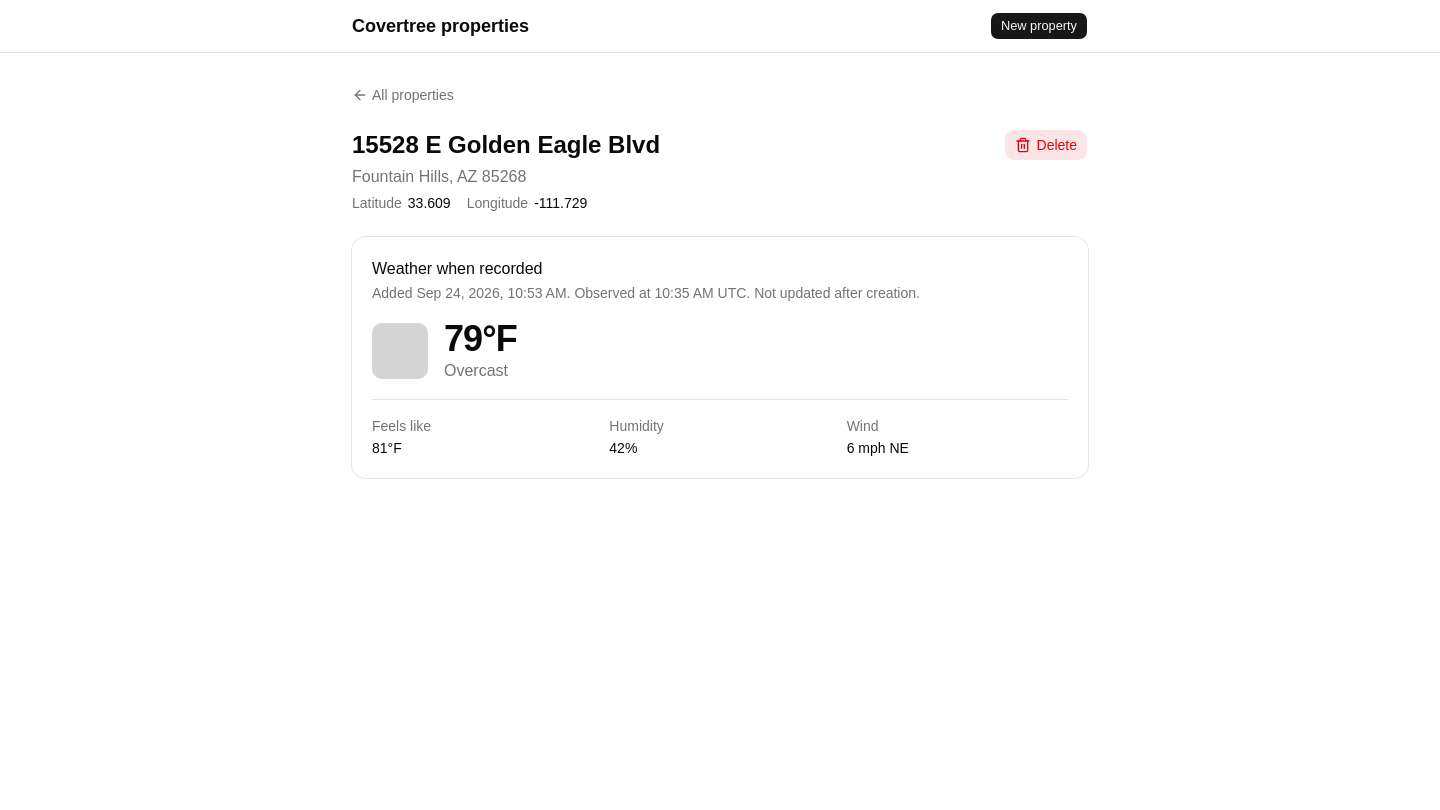
delete property › S6.6 asks for confirmation and deletes nothing when cancelled
The image size is (1440, 810).
Click the button "Delete". click: x=1046, y=145
box: x1=1004 y1=129 x2=1088 y2=161
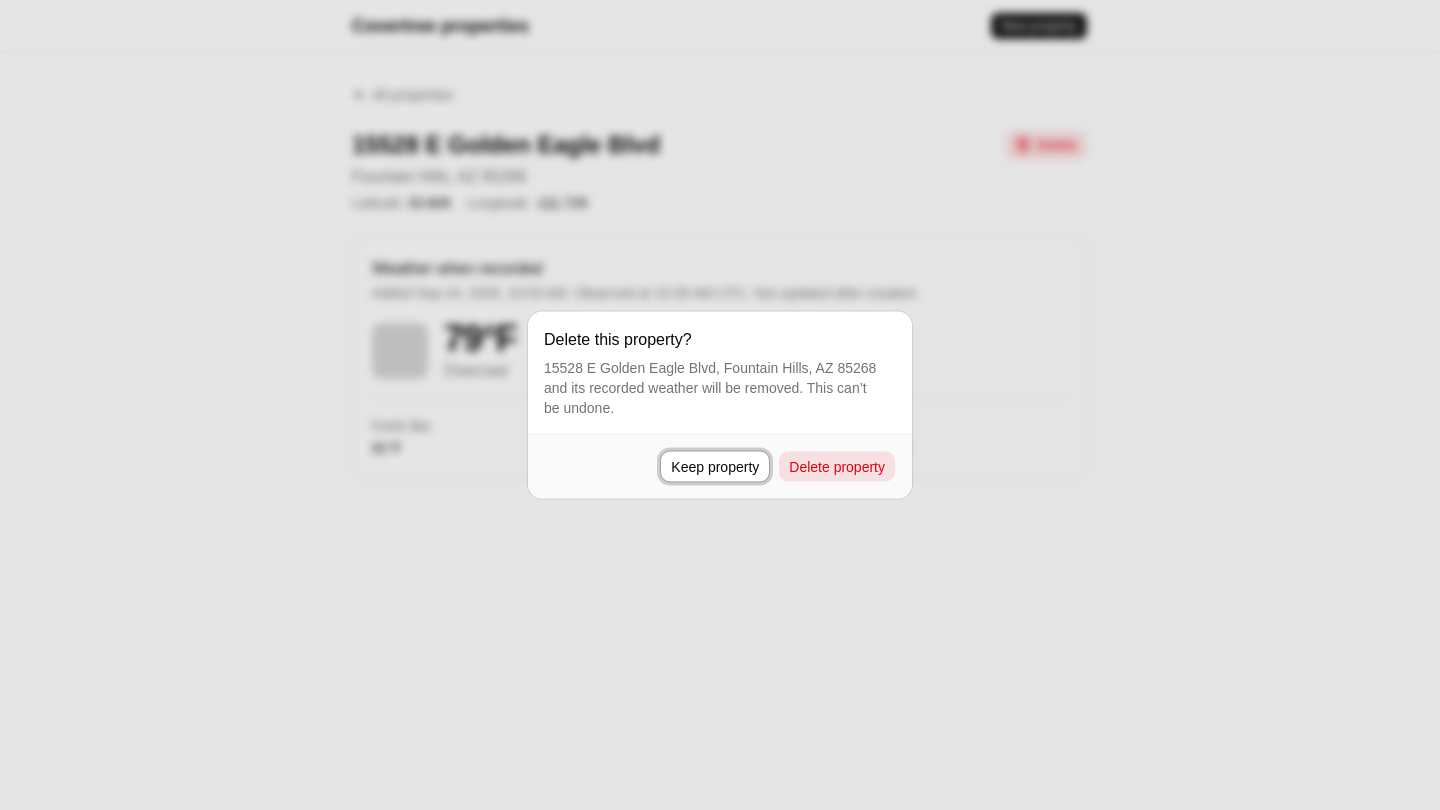
Expected: the heading "Delete this property?" is shown, x1=544 y1=328 x2=692 y2=352
Expected: the text "15528 E Golden Eagle Blvd, Fountain Hills, AZ 85268" is shown, x1=544 y1=360 x2=876 y2=376
Click the button "Keep property". click: x=715, y=466
box: x1=660 y1=450 x2=770 y2=482
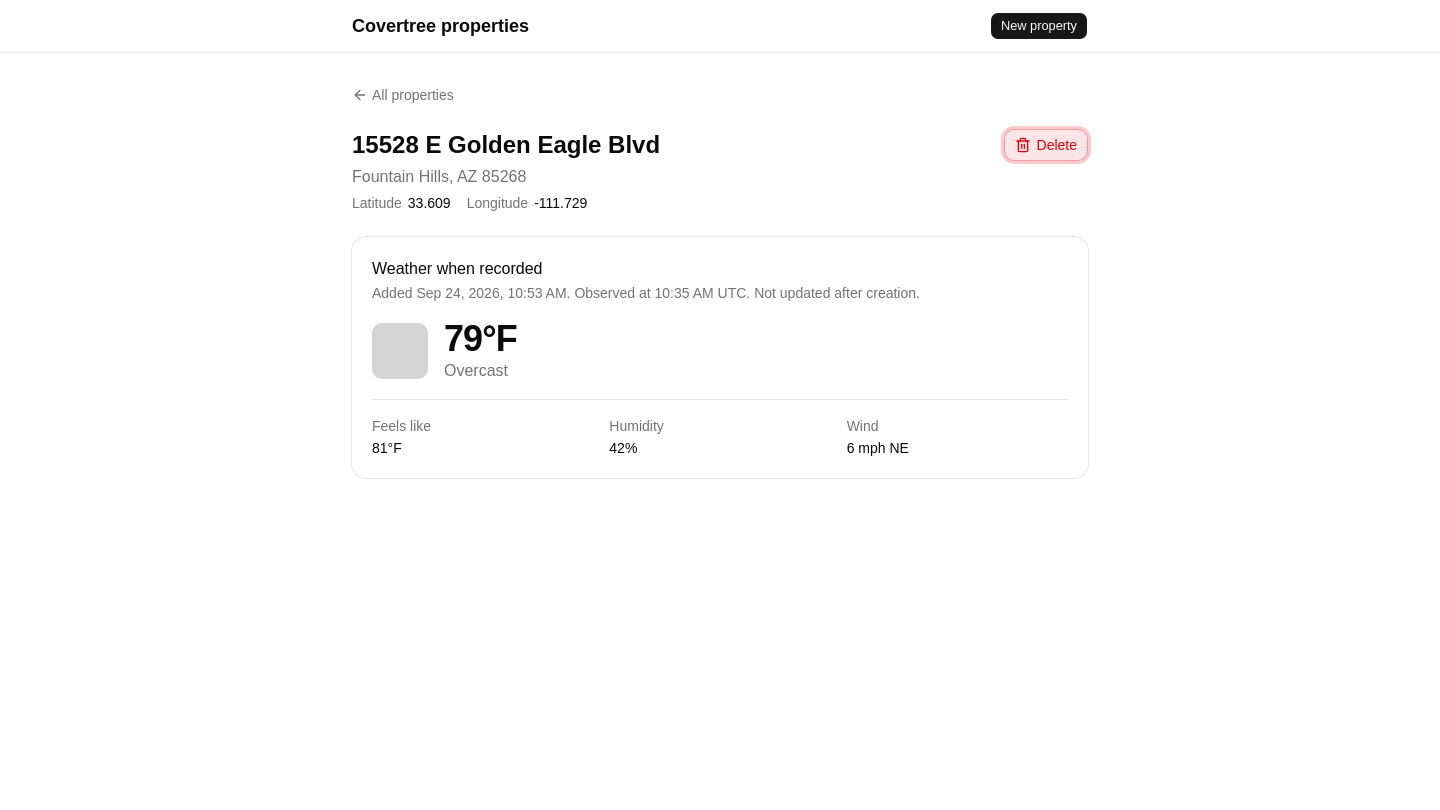
Expected: the dialog is gone
